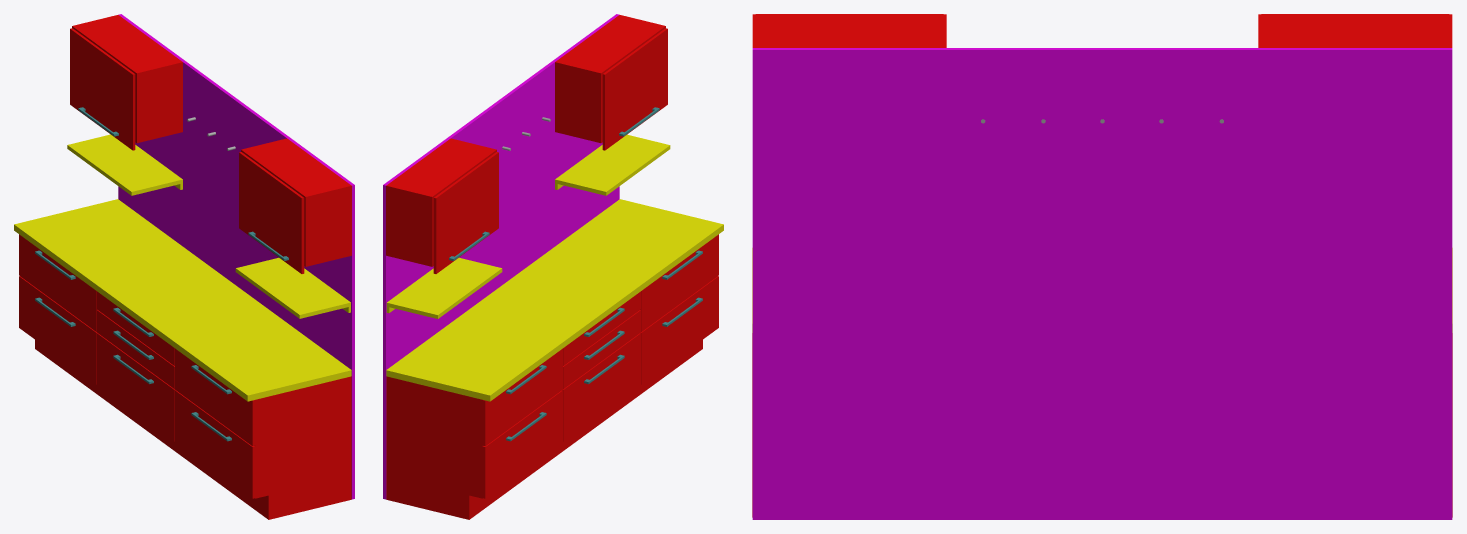
3 renders of one model, left to right at view 1: azimuth 30°, elevation 25°; view 2: azimuth 150°, elevation 25°; view 3: azimuth 270°, elevation 25°, orthographic. The views are drawn at different scales.
Visible parts, largest first — view 1: pCube137; view 2: pCube137; view 3: pCube137.
Boxes of the visible parts, box(x1,y1,x2,y2) form: pCube137: box(14, 14, 354, 519); pCube137: box(383, 14, 723, 519); pCube137: box(752, 14, 1452, 519).
Bounding box in the file's own units: 81.3 × 227 × 306.
